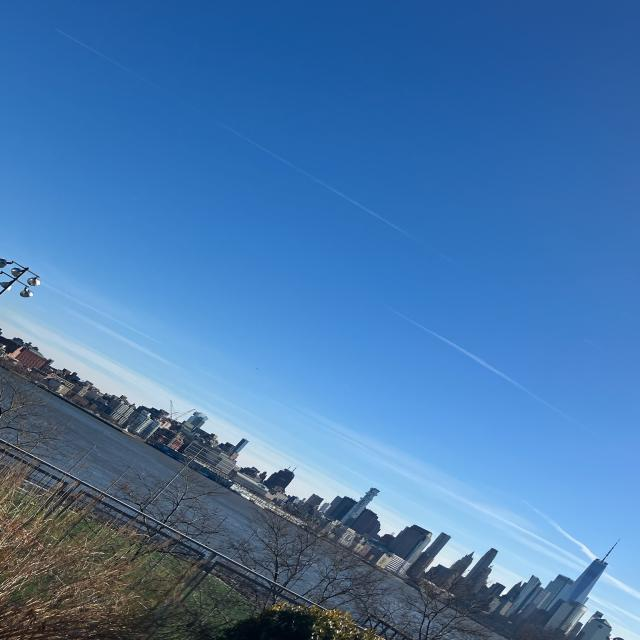WTC: (560, 535, 629, 603)
